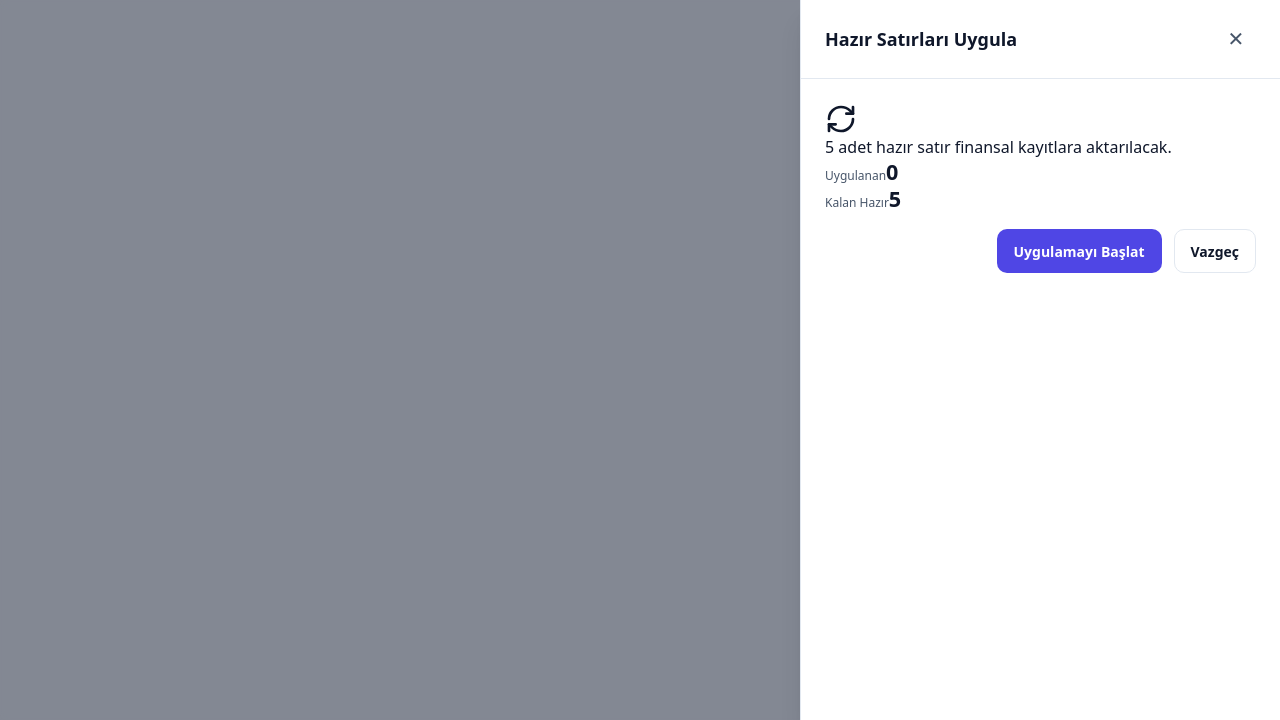
Test case: F9 — CSV Imports & Resolution Unit & Integration Suite › apply network uncertainty explicitly refreshes batch + READY rows authority
This screenshot has width=1280, height=720.
Click the button with test id "btn-start-apply": (1079,251) [996,229,1162,273]
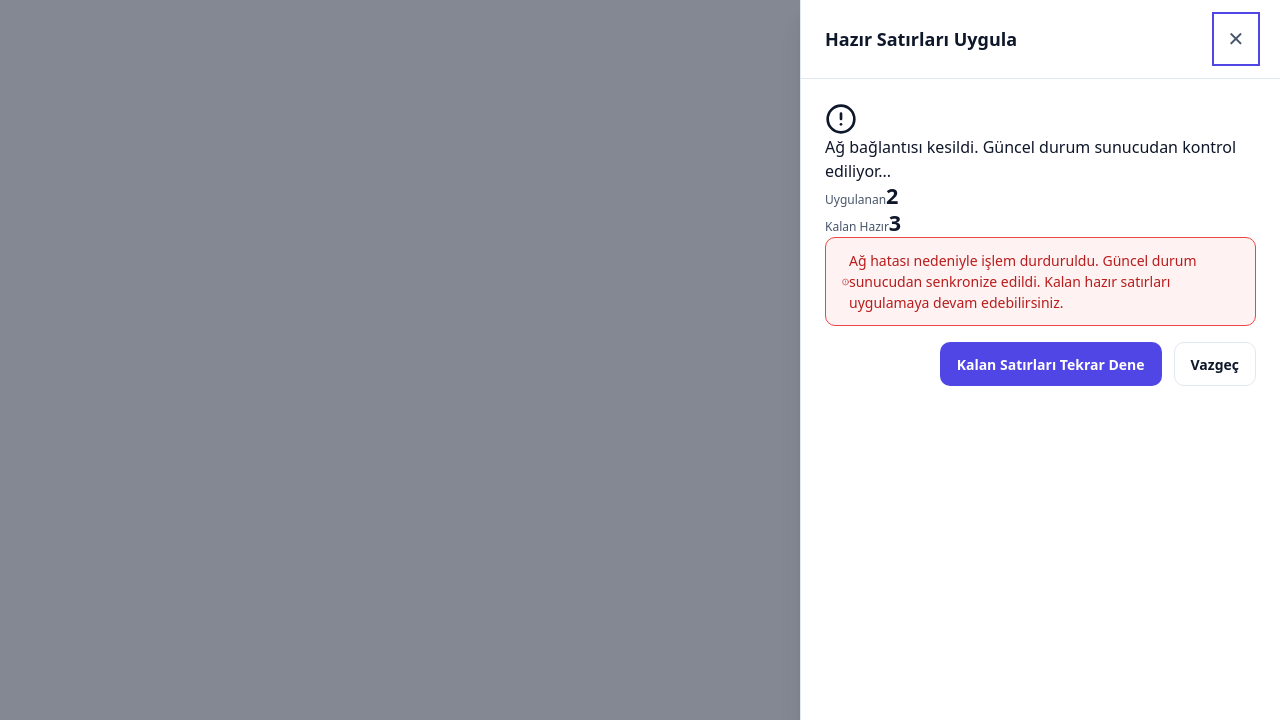
Check: the text with test id "metric-remaining-count" reads "3", box [889,208,901,237]
Check: the text with test id "metric-applied-count" reads "2", box [886,181,898,210]
